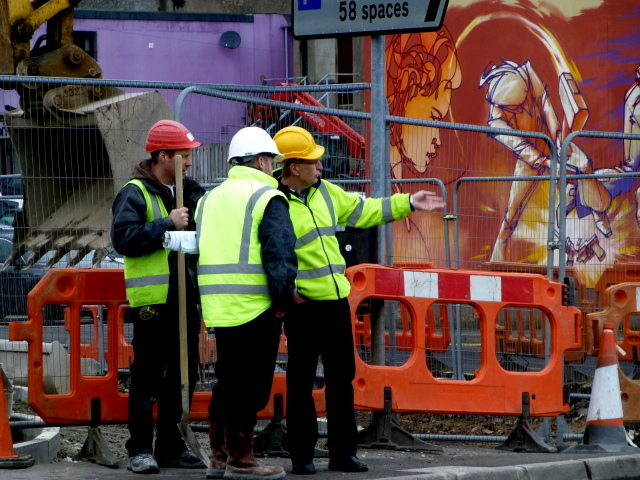Hard Hat: (143, 122, 201, 182), (275, 130, 328, 190), (224, 125, 283, 176)
Person: (274, 131, 426, 473), (201, 125, 299, 479), (111, 121, 201, 474)
Vest: (205, 160, 280, 327), (121, 149, 199, 308), (280, 157, 361, 300)
